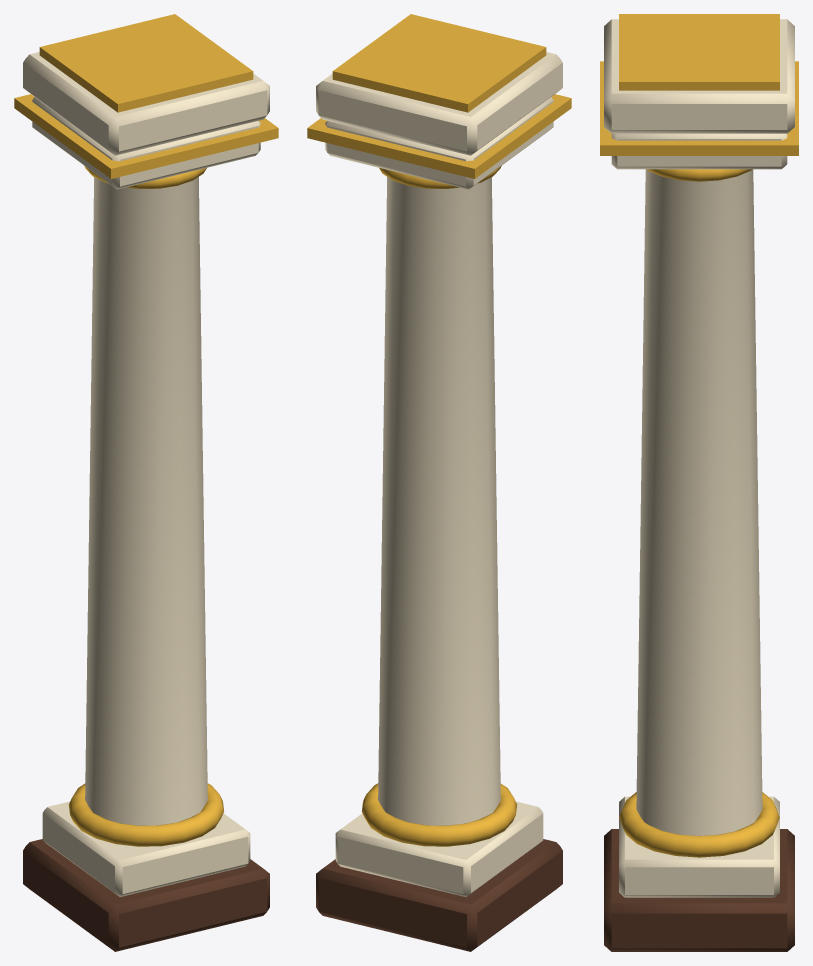
Rendered from pillar.glb.
3 views of the same model, side by side, from view 1: azimuth 30°, elevation 25°; view 2: azimuth 150°, elevation 25°; view 3: azimuth 270°, elevation 25° (orthographic). The views are drawn at different scales.
Parts seen in each view (by area): view 1: pillar; view 2: pillar; view 3: pillar.
Boxes of the visible parts, x1=… form: pillar: x1=14, y1=14, x2=278, y2=951; pillar: x1=307, y1=14, x2=571, y2=951; pillar: x1=600, y1=14, x2=798, y2=951.
Bounding box in the file's own units: 1.04 × 5 × 1.04.
